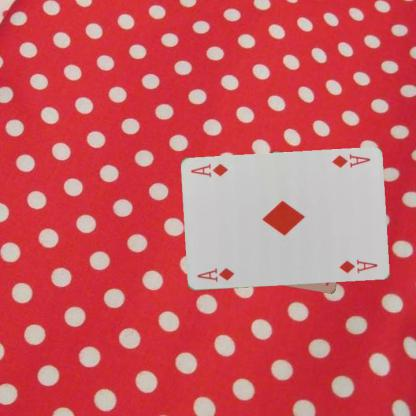Ad: (328, 152, 372, 170), (194, 265, 235, 284)
